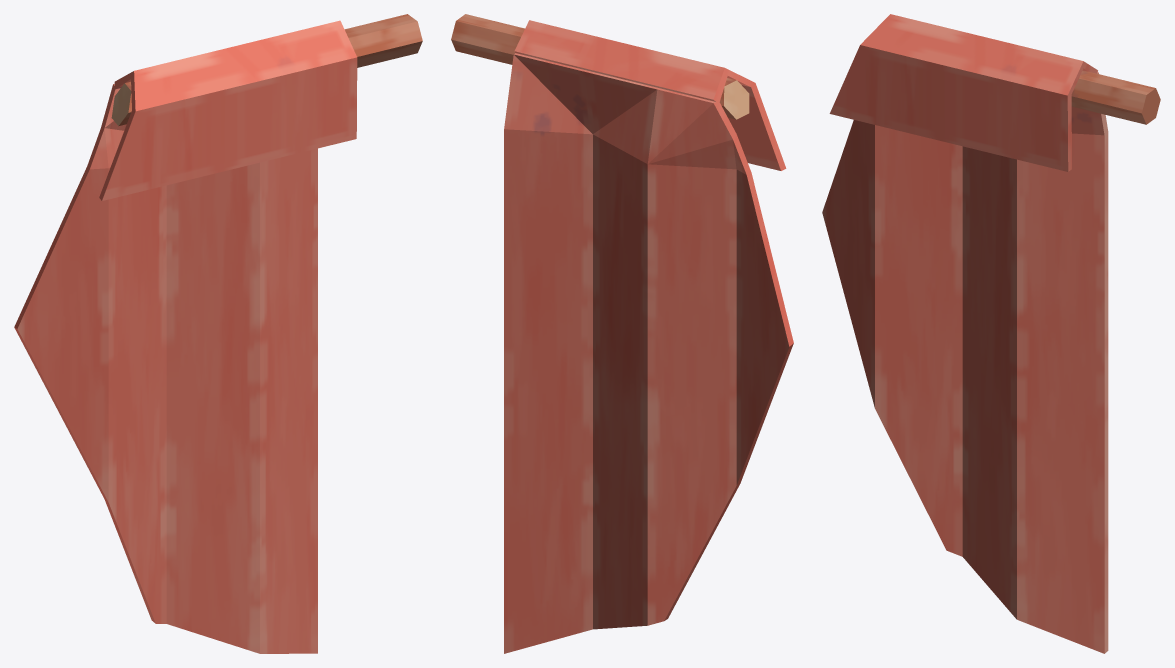
The model's file is cloth_s03.fbx.
The picture shows the model from 3 angles, left to right: view 1: azimuth 30°, elevation 25°; view 2: azimuth 150°, elevation 25°; view 3: azimuth 330°, elevation 25°; orthographic projection. The views are drawn at different scales.
Parts seen in each view (by area): view 1: cloth_s03; view 2: cloth_s03; view 3: cloth_s03.
Part boxes in pixels (<box>): cloth_s03: <box>14,14,422,653</box>; cloth_s03: <box>451,14,793,653</box>; cloth_s03: <box>822,14,1160,653</box>.
Size of the model in its own units: 3.61 by 6.01 by 0.7289.
